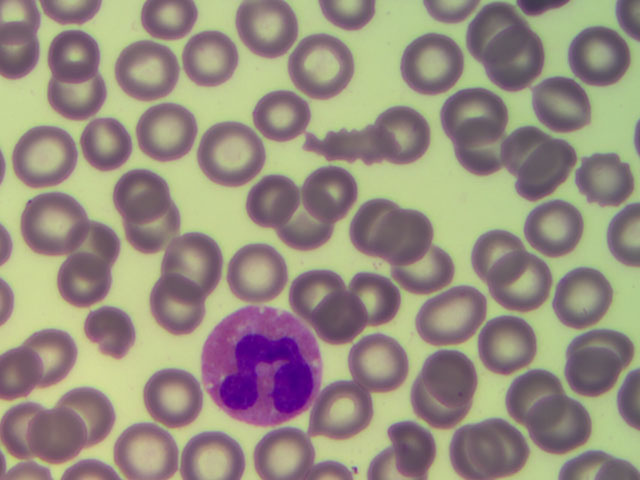RBC: (114, 420, 182, 480), (253, 430, 303, 480), (185, 430, 235, 480), (51, 29, 101, 78), (62, 72, 112, 121), (15, 131, 65, 180), (78, 121, 128, 170), (112, 168, 162, 217), (127, 200, 177, 249), (30, 192, 80, 241), (65, 225, 115, 274), (56, 247, 106, 296), (74, 299, 124, 348), (21, 337, 71, 386), (32, 409, 82, 458), (54, 389, 104, 438), (133, 378, 183, 427), (155, 279, 205, 328), (174, 237, 224, 286), (227, 243, 277, 292), (206, 122, 256, 171), (141, 103, 191, 152), (121, 43, 171, 92), (188, 25, 238, 74), (239, 5, 289, 54), (288, 32, 338, 81), (404, 36, 454, 85), (455, 12, 505, 61), (496, 40, 546, 89), (547, 79, 597, 128), (576, 33, 626, 82), (577, 154, 627, 203), (521, 150, 571, 199), (491, 120, 541, 169), (467, 125, 517, 174), (447, 91, 497, 140), (379, 105, 429, 154), (342, 193, 392, 242), (369, 214, 419, 263), (301, 162, 351, 211), (282, 198, 332, 247), (243, 171, 293, 220), (293, 269, 343, 318), (311, 292, 361, 341), (343, 269, 393, 318), (402, 251, 452, 300), (426, 287, 476, 336), (349, 331, 399, 380), (471, 230, 521, 279), (495, 262, 545, 311), (534, 194, 584, 243), (561, 265, 611, 314), (483, 319, 533, 368), (425, 353, 475, 402), (410, 376, 460, 425), (379, 412, 429, 461), (442, 426, 492, 475), (477, 420, 527, 469), (523, 402, 573, 451), (508, 371, 558, 420), (575, 352, 625, 401), (578, 322, 628, 371), (314, 382, 364, 431), (1, 402, 50, 451), (146, 1, 196, 49), (327, 1, 377, 49)
WBC: (204, 305, 321, 428)
